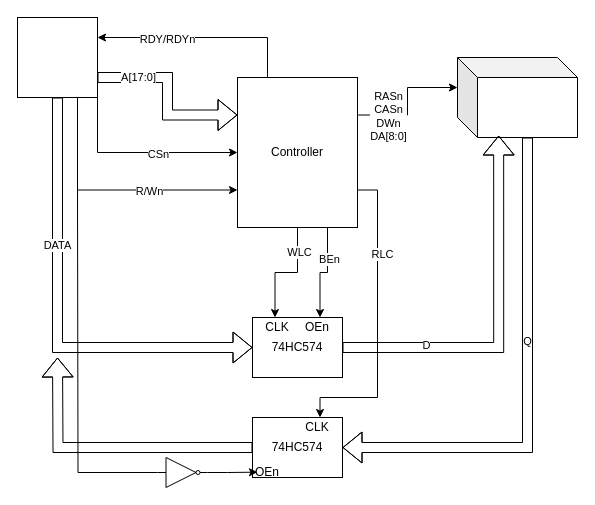
This 595x505 diagram has some shape labels left out. Here are the shapes that lost their labels. From the top down, the box of each, then its label:
(16, 16, 98, 98): Host System
(456, 56, 578, 138): DRAM
